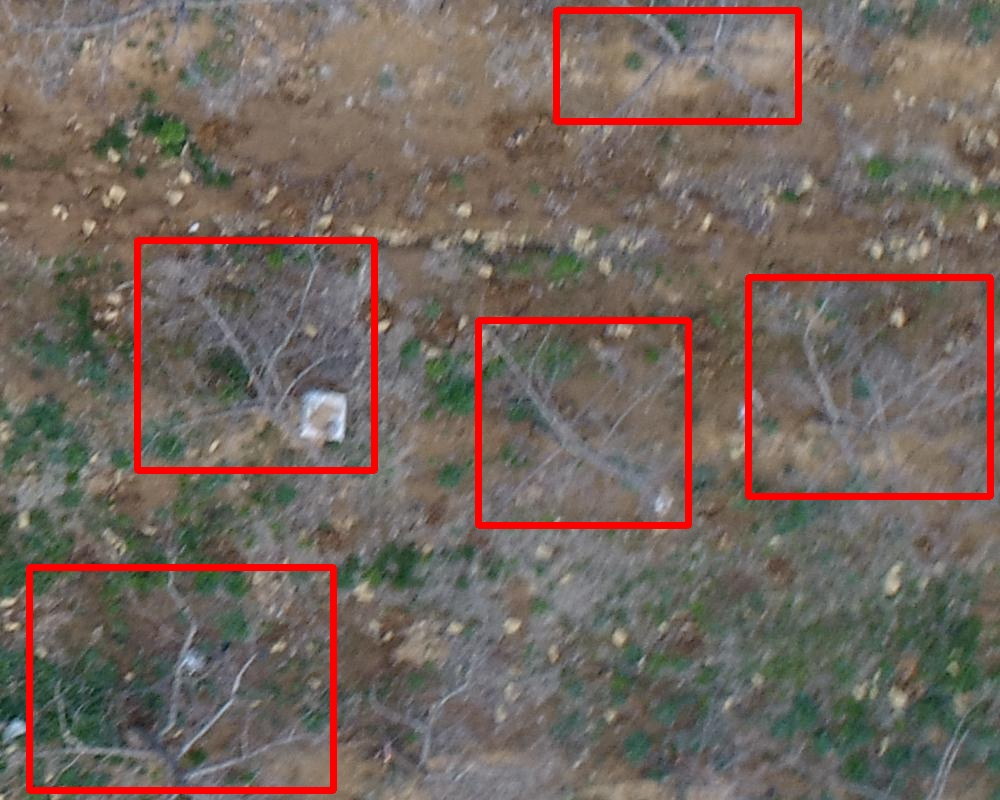apple: (29, 567, 333, 790), (137, 240, 374, 470), (748, 277, 990, 496), (478, 320, 688, 525), (556, 10, 798, 121)
